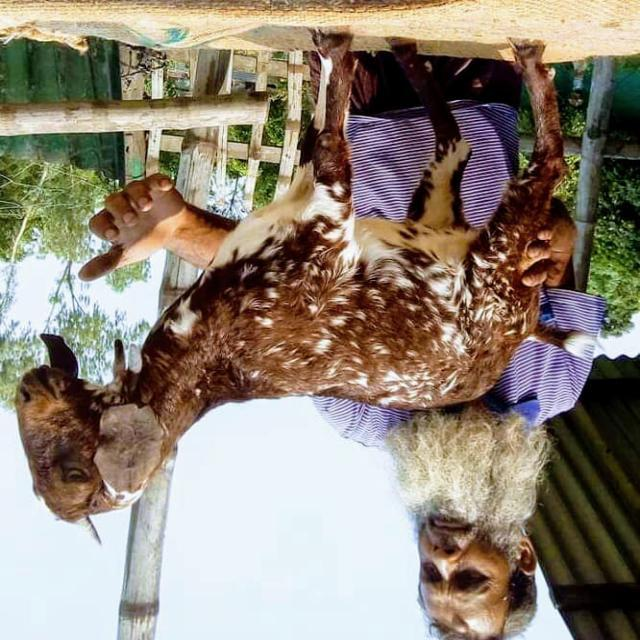Goat: (13, 29, 588, 547)
